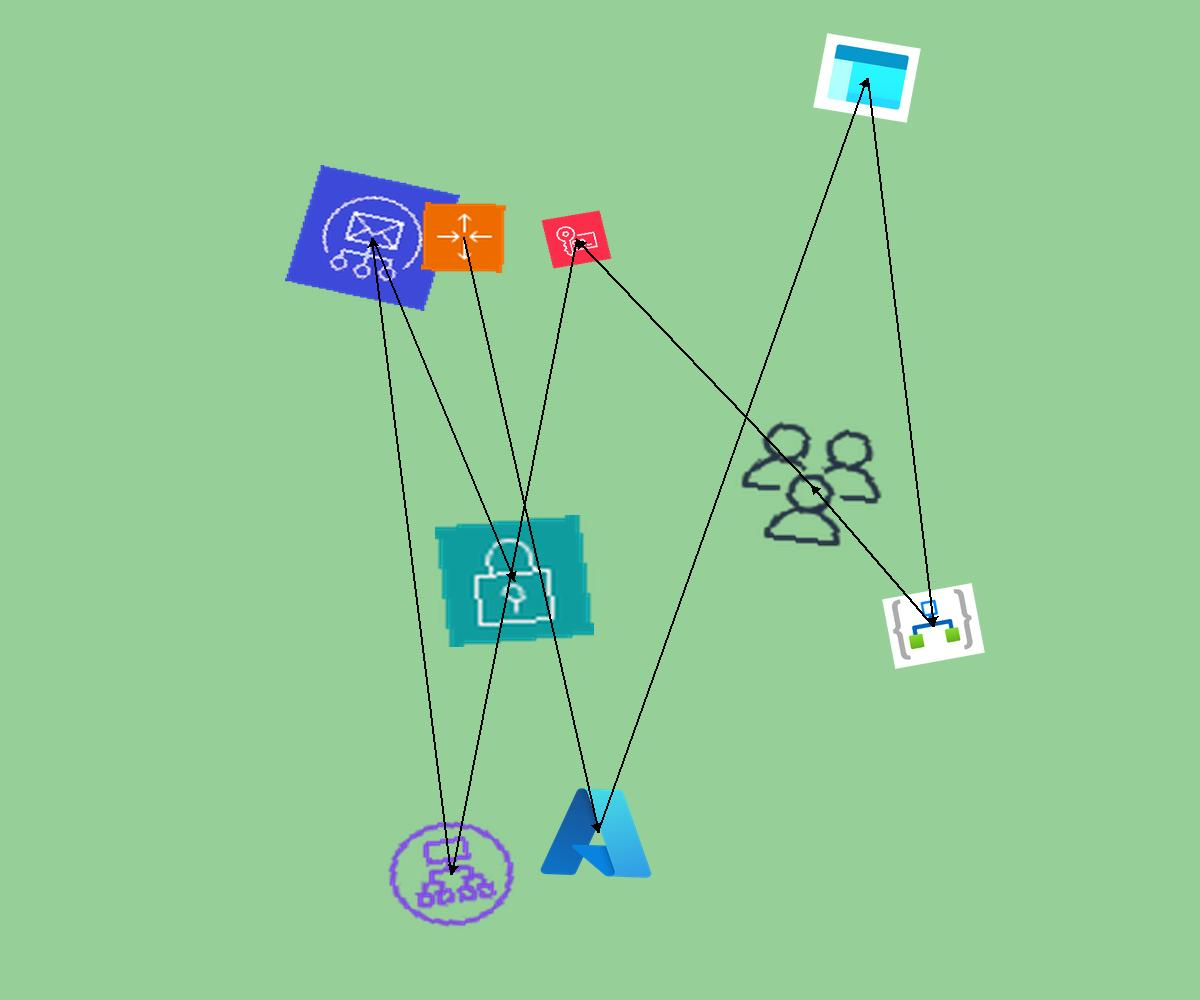AWS-Key-Management-Service: (541, 210, 612, 269)
AWS-Private-subnet: (435, 515, 594, 647)
AWS-Res_Elastic-Load-Balancing_Application-Load-Balancer: (370, 806, 533, 942)
AWS-Res_Users: (723, 411, 900, 559)
AWS-Scaling-group: (421, 202, 506, 273)
AWS-Simple-Email-Service: (285, 165, 460, 311)
Azure_integration-204-Logic-Apps: (882, 583, 985, 669)
Azure_management-portal: (813, 33, 921, 123)
Azure_services: (535, 780, 661, 885)
